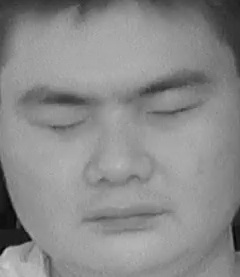blink: (149, 94, 204, 131), (32, 106, 87, 142)
mouth: (76, 192, 170, 241)
